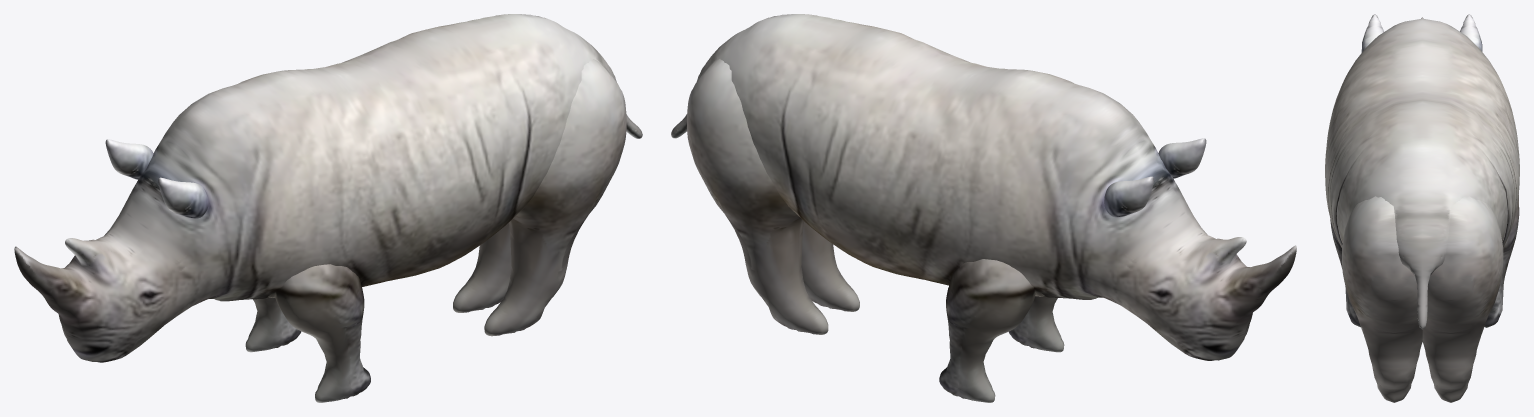
Rendered from white-rhino.glb.
3 renders of one model, left to right at view 1: azimuth 30°, elevation 25°; view 2: azimuth 150°, elevation 25°; view 3: azimuth 270°, elevation 25°, orthographic. The views are drawn at different scales.
Visible parts, largest first — view 1: mm_frame (55); view 2: mm_frame (55); view 3: mm_frame (55).
Boxes of the visible parts, x1,y1,x2,y2 form: mm_frame (55): (14, 14, 642, 402); mm_frame (55): (671, 14, 1296, 402); mm_frame (55): (1325, 14, 1519, 402).
Bounding box in the file's own units: 5.37 × 2.5 × 1.61.
1 material, 1 textured.
